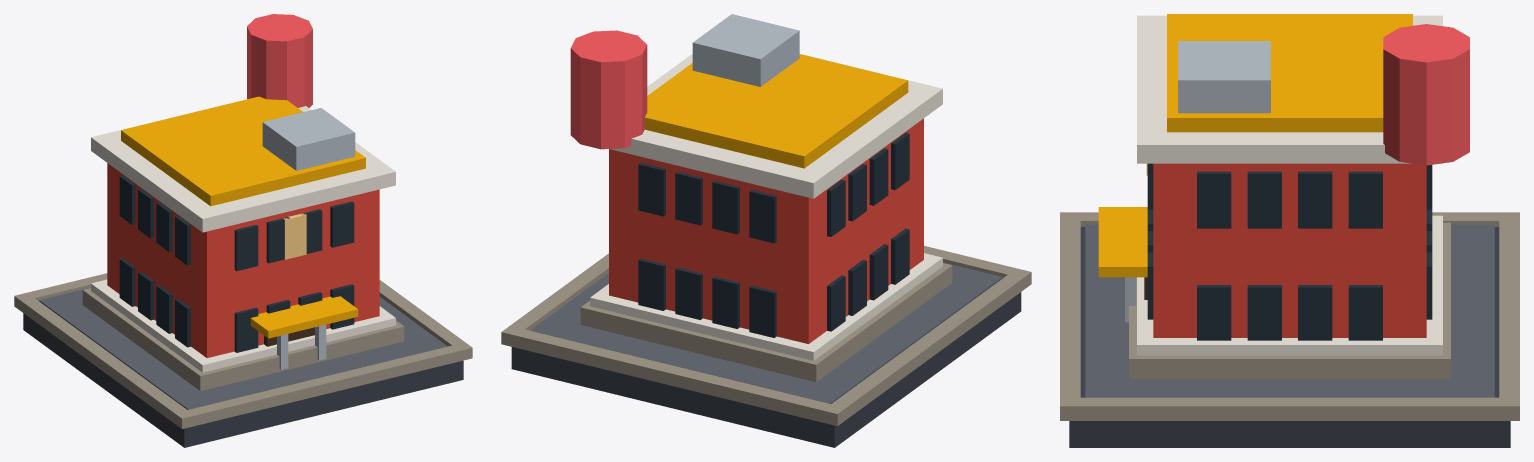
File: city.studio.glb
3 views of the same model, side by side, from view 1: azimuth 30°, elevation 25°; view 2: azimuth 150°, elevation 25°; view 3: azimuth 270°, elevation 25° (orthographic). The views are drawn at different scales.
Visible parts, largest first — view 1: city.studio; view 2: city.studio; view 3: city.studio.
Part boxes in pixels (left/top/right/bottom): city.studio: left=14, top=14, right=472, bottom=447; city.studio: left=501, top=14, right=1031, bottom=447; city.studio: left=1060, top=14, right=1519, bottom=447.
Size of the model in its own units: 2.02 by 1.79 by 2.02.
